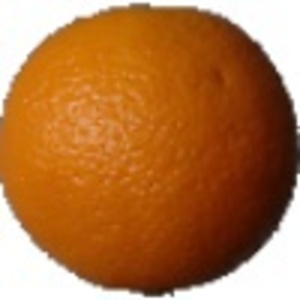laranja: (2, 5, 298, 295)
